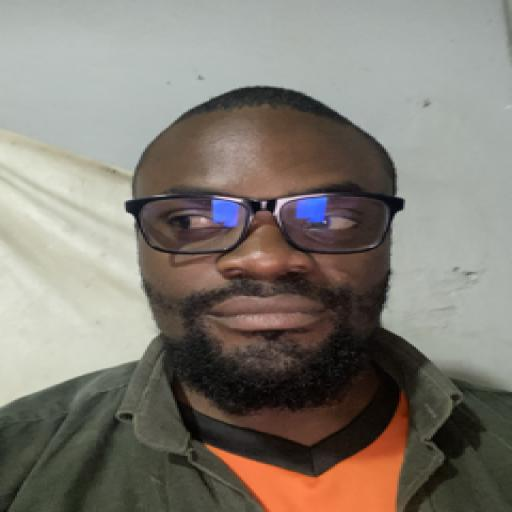JEANLUC: (118, 76, 404, 422)
